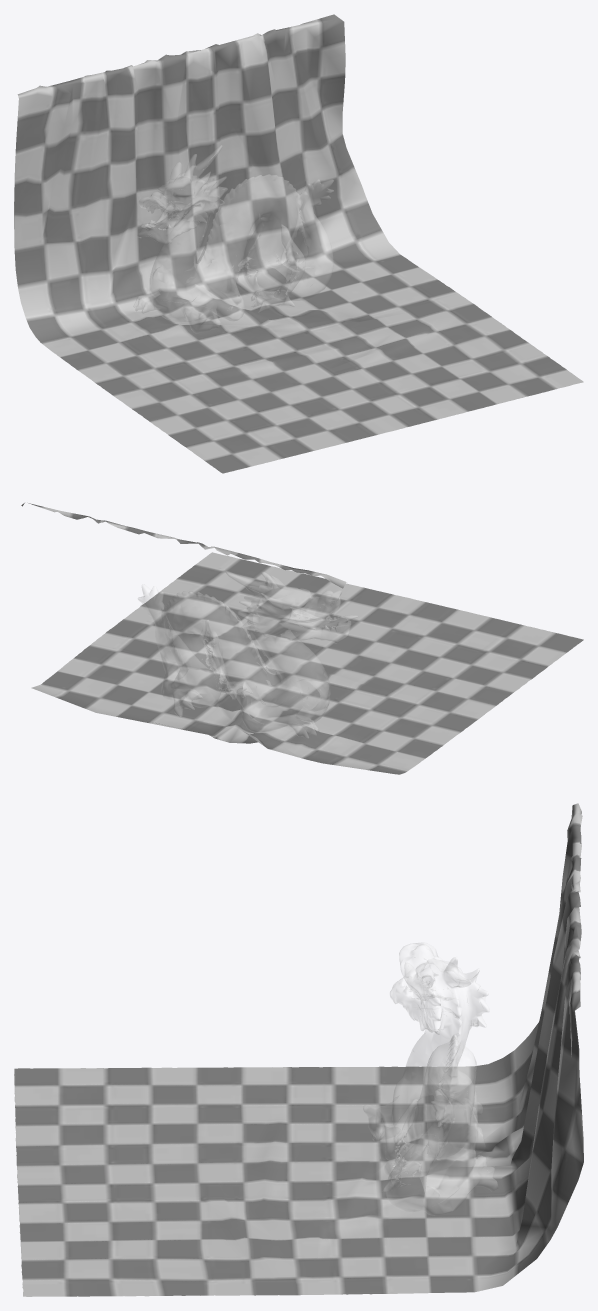
The model's file is dragon.glb.
3 renders of one model, top to bottom at view 1: azimuth 30°, elevation 25°; view 2: azimuth 150°, elevation 25°; view 3: azimuth 270°, elevation 25°, orthographic. The views are drawn at different scales.
Visible parts, largest first — view 1: Cloth Backdrop, Dragon; view 2: Cloth Backdrop, Dragon; view 3: Cloth Backdrop, Dragon.
Part boxes in pixels (left/top/right/bottom): Cloth Backdrop: left=14, top=14, right=583, bottom=473; Dragon: left=133, top=145, right=333, bottom=332; Cloth Backdrop: left=21, top=503, right=583, bottom=774; Dragon: left=138, top=571, right=357, bottom=738; Cloth Backdrop: left=14, top=803, right=583, bottom=1296; Dragon: left=363, top=942, right=497, bottom=1215.
Size of the model in its own units: 6.31 by 3.57 by 6.6.
2 materials, 1 textured.
